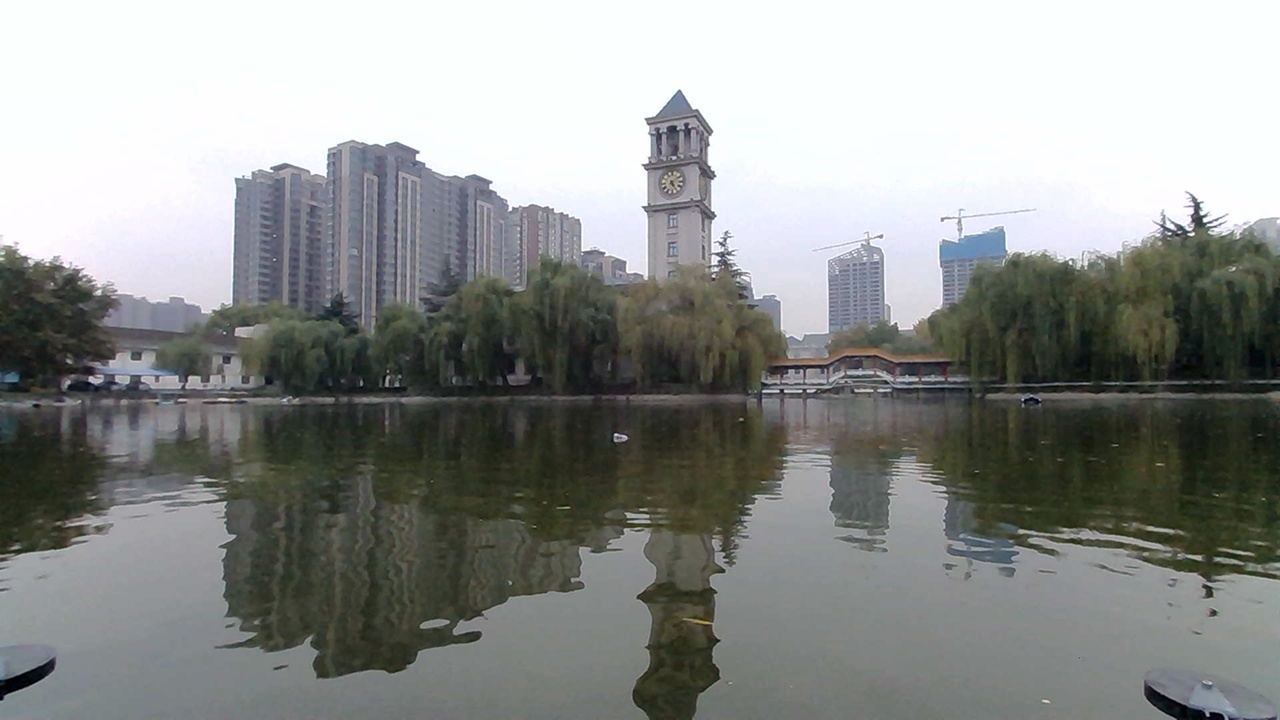bottle: (602, 421, 654, 459)
